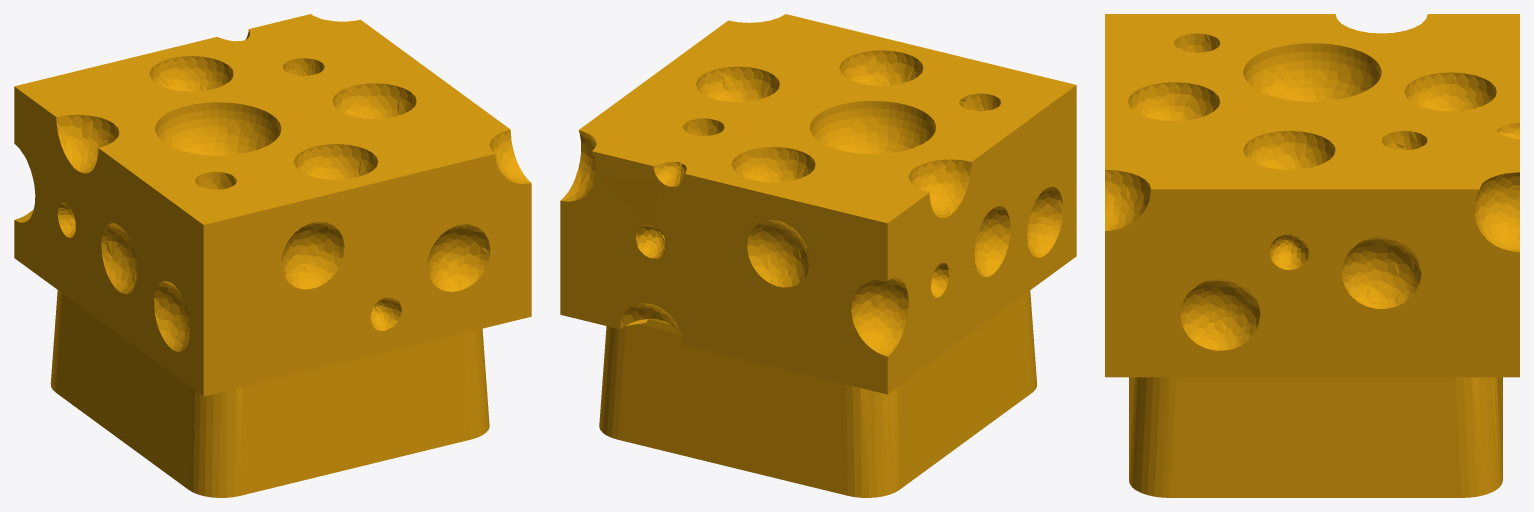
The model's file is keycap_Chees.glb.
3 renders of one model, left to right at view 1: azimuth 30°, elevation 25°; view 2: azimuth 150°, elevation 25°; view 3: azimuth 270°, elevation 25°, orthographic. The views are drawn at different scales.
Parts seen in each view (by area): view 1: keycap_oreo; view 2: keycap_oreo; view 3: keycap_oreo.
Boxes of the visible parts, x1=… form: keycap_oreo: x1=14, y1=14, x2=531, y2=497; keycap_oreo: x1=560, y1=14, x2=1076, y2=497; keycap_oreo: x1=1105, y1=14, x2=1519, y2=497.
Size of the model in its own units: 18 by 15.22 by 18.
